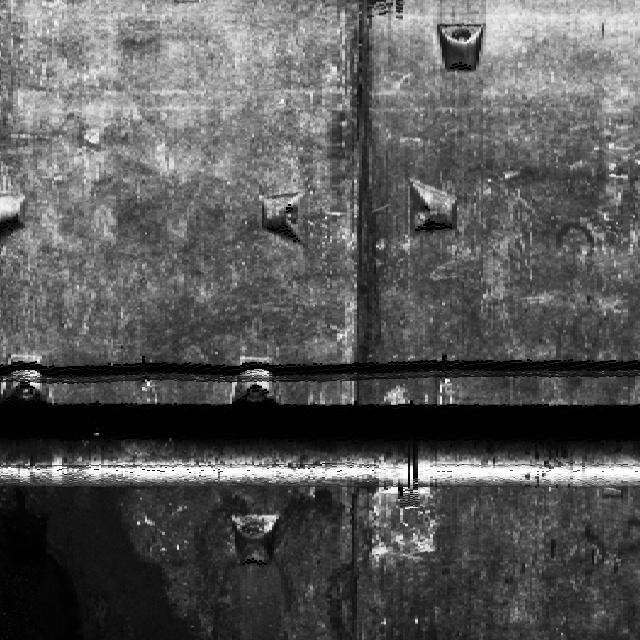leakage: (7, 388, 193, 639)
